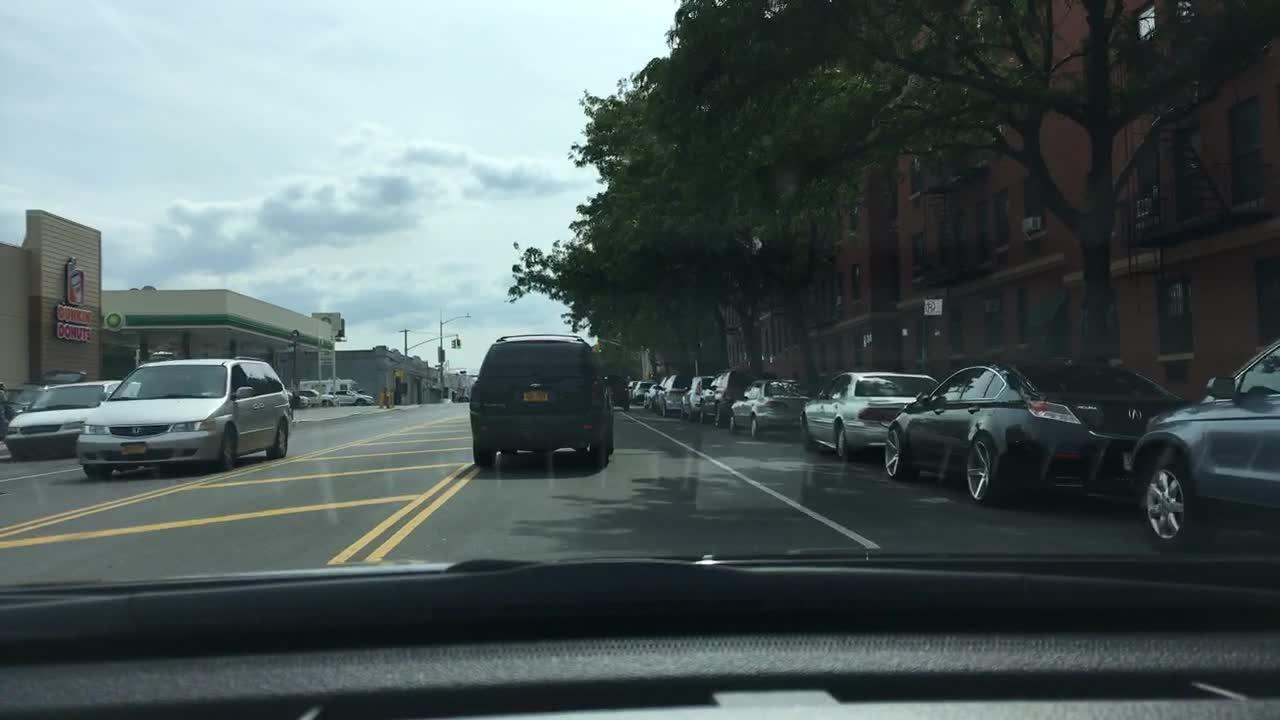Honda: (125, 422, 146, 442)
acura: (1119, 405, 1149, 425)
chevrolet: (525, 377, 547, 393)
